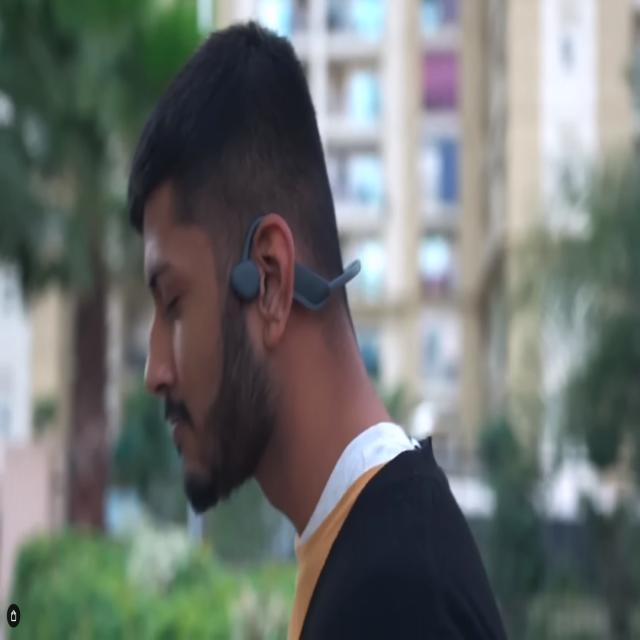Neckband: (227, 214, 365, 316)
